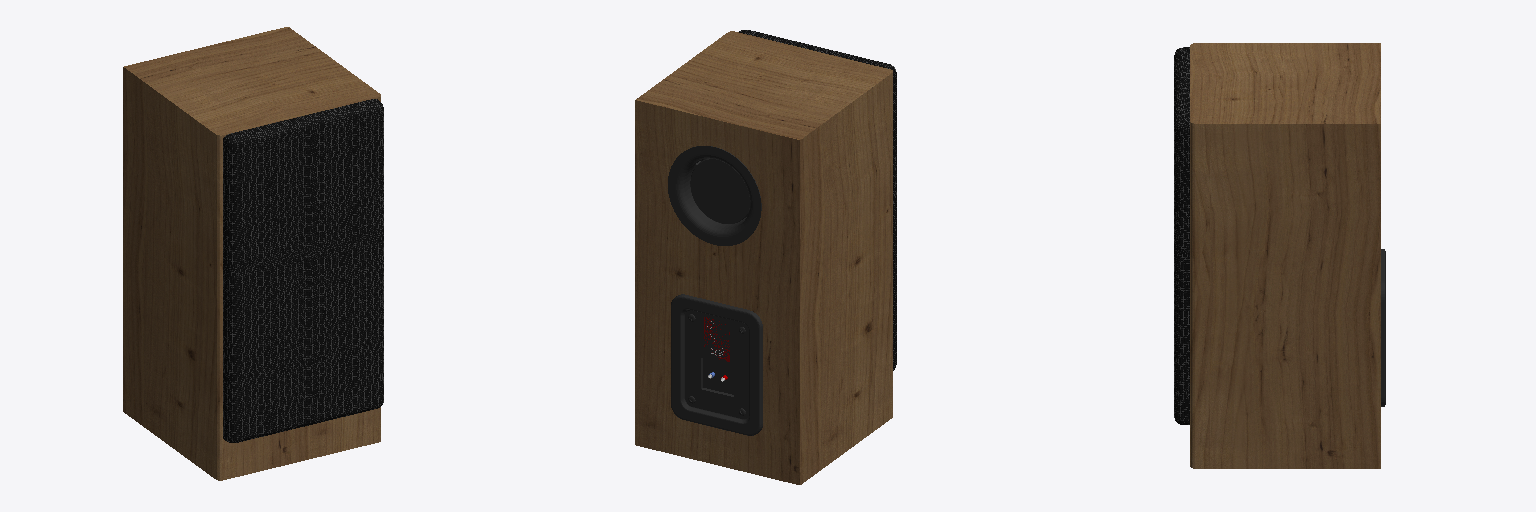
3 views of the same model, side by side, from view 1: azimuth 30°, elevation 25°; view 2: azimuth 150°, elevation 25°; view 3: azimuth 270°, elevation 25° (orthographic).
Visible parts, largest first — view 1: CASE, SHEILD; view 2: CASE, PANEL, OUTLET, SHEILD; view 3: CASE, SHEILD, PANEL.
Part boxes in pixels (x1,y1,x2,y2): CASE: (123,27,380,480); SHEILD: (223,99,383,442); CASE: (635,31,892,484); PANEL: (671,294,762,435); OUTLET: (668,146,761,245); SHEILD: (739,30,896,370); CASE: (1190,43,1380,468); SHEILD: (1174,47,1189,424); PANEL: (1381,249,1385,406).
Bounding box in the file's own units: 0.3 × 0.6 × 0.3325.
7 materials, 3 textured.